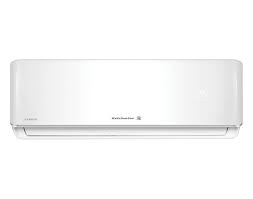ac: (9, 57, 246, 149)
